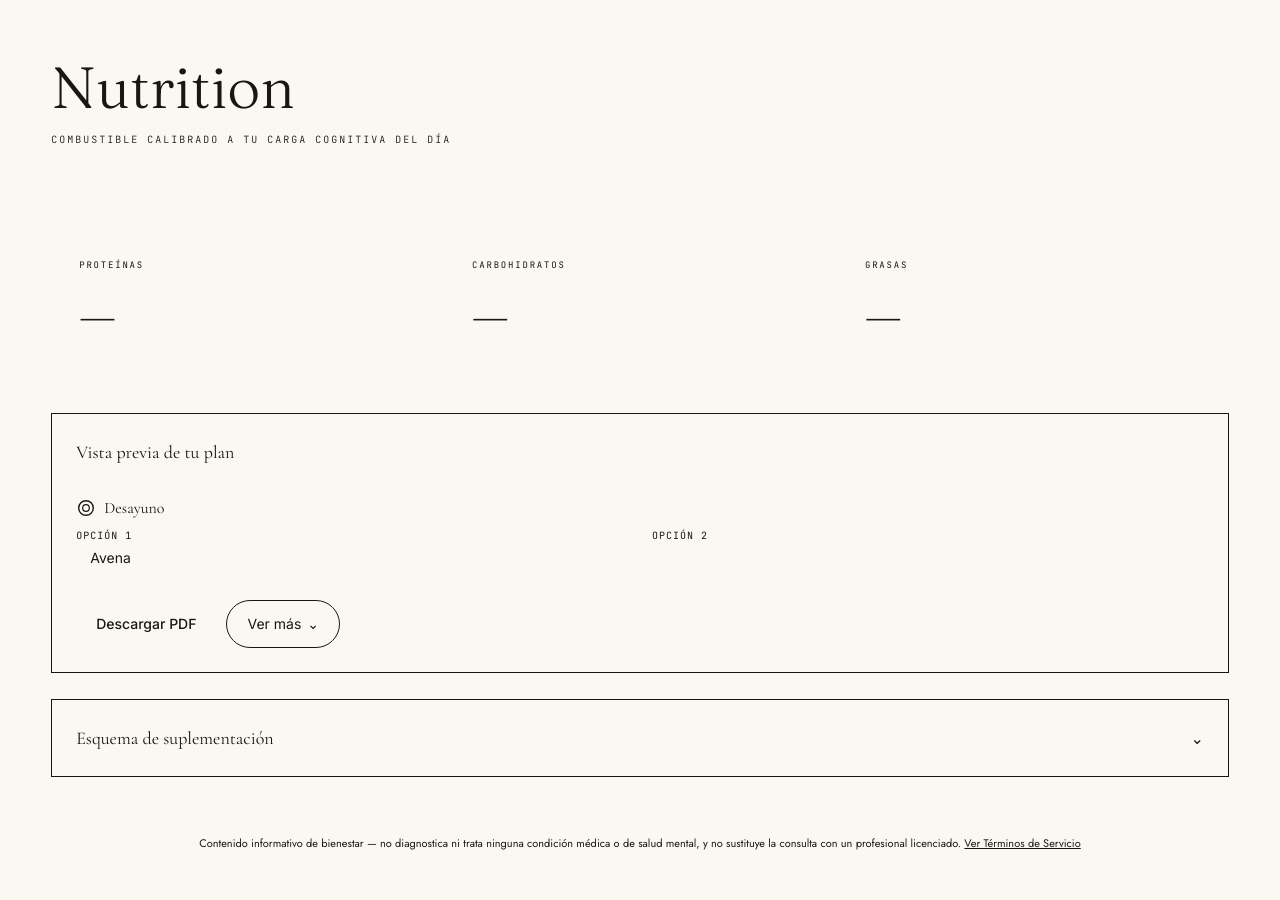
Test case: ClientNutritionPanel › reveals the rest of the meals when Ver más is clicked
The width and height of the screenshot is (1280, 900).
Expected: the text "Desayuno" is shown, [76, 498, 164, 518]
Expected: the text "Almuerzo" is not shown
Click the button "Ver más ⌄" at (283, 624), box [226, 600, 340, 648]
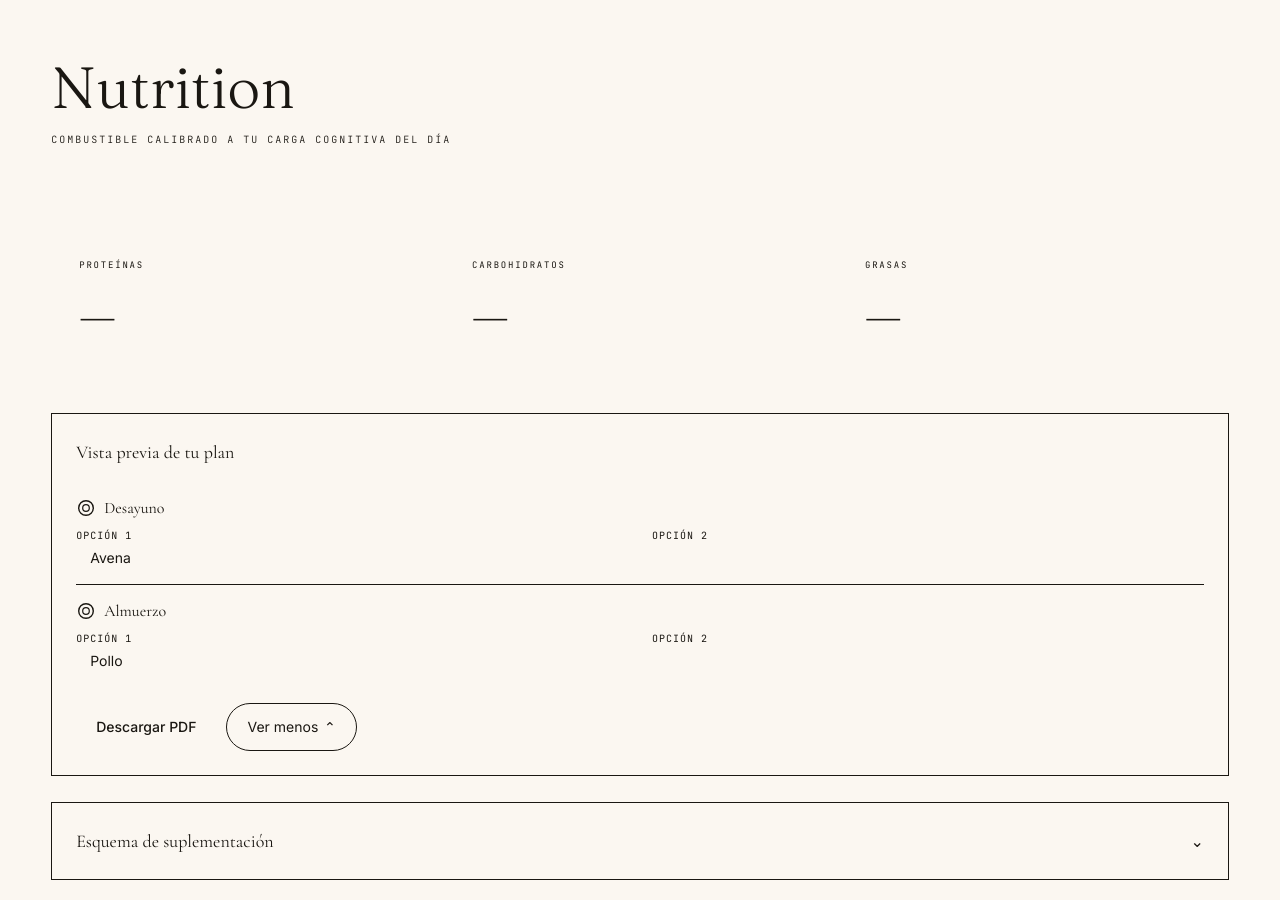
Expected: the text "Almuerzo" is shown, [76, 601, 166, 621]
